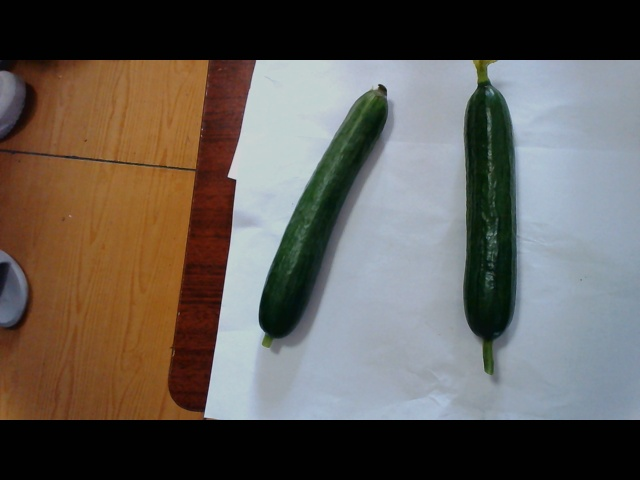cucumber: (248, 73, 386, 353), (453, 66, 529, 383)
